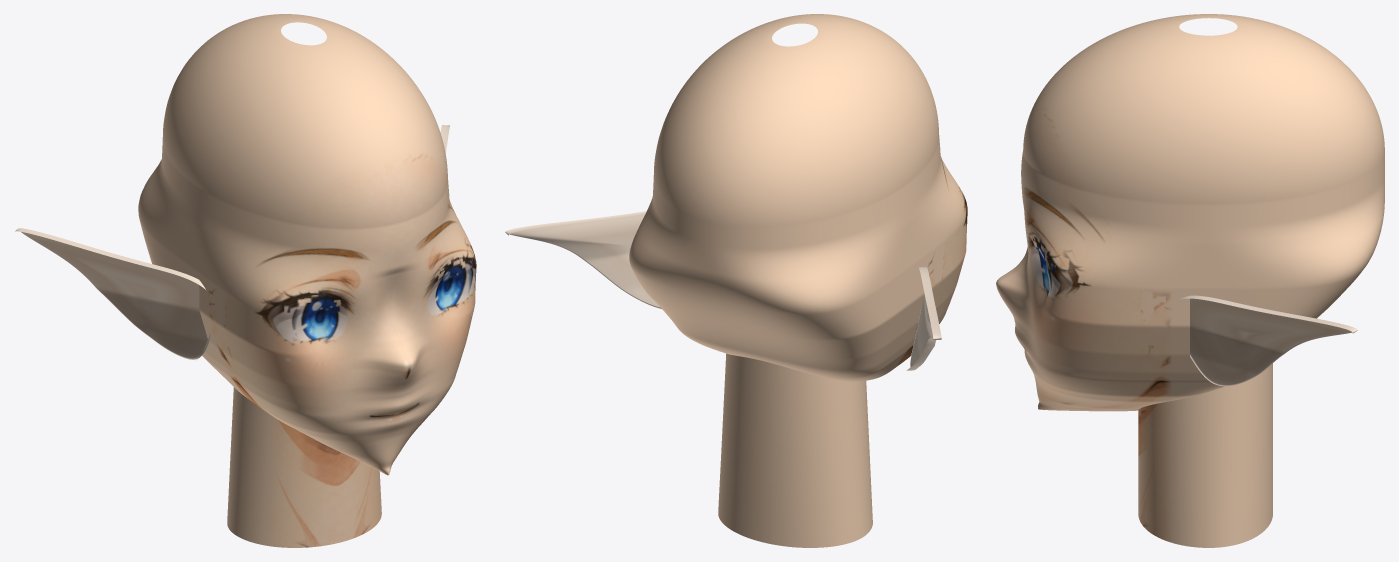
Rendered from elena.glb.
3 views of the same model, side by side, from view 1: azimuth 30°, elevation 25°; view 2: azimuth 150°, elevation 25°; view 3: azimuth 270°, elevation 25° (orthographic).
Parts seen in each view (by area): view 1: Head, Ear_R; view 2: Head, Ear_L, Ear_R; view 3: Head, Ear_L.
Part boxes in pixels (left/top/right/bottom): Head: left=138, top=14, right=476, bottom=547; Ear_R: left=15, top=228, right=210, bottom=359; Head: left=629, top=14, right=967, bottom=547; Ear_L: left=505, top=211, right=661, bottom=308; Ear_R: left=906, top=267, right=941, bottom=370; Head: left=996, top=14, right=1384, bottom=547; Ear_L: left=1177, top=295, right=1357, bottom=386.
Bounding box in the file's own units: 0.2781 × 0.2957 × 0.2133.
2 materials, 1 textured.
